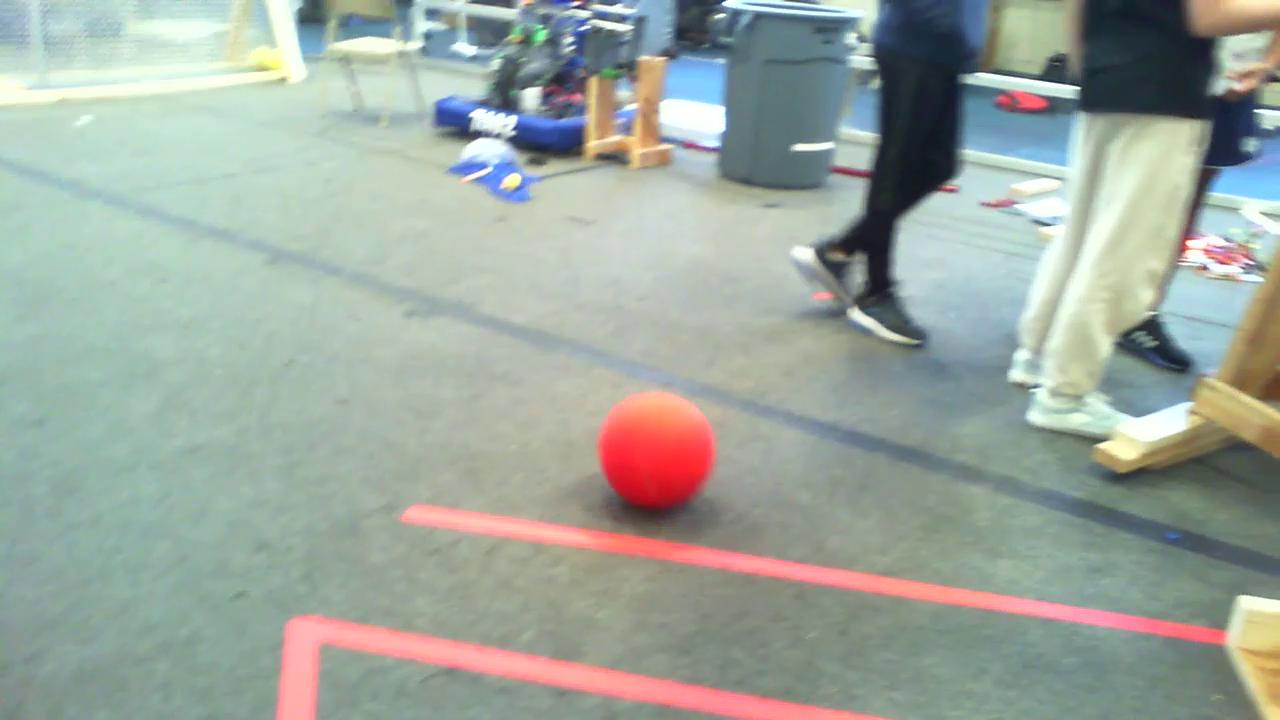Red_Ball: (574, 382, 728, 518)
